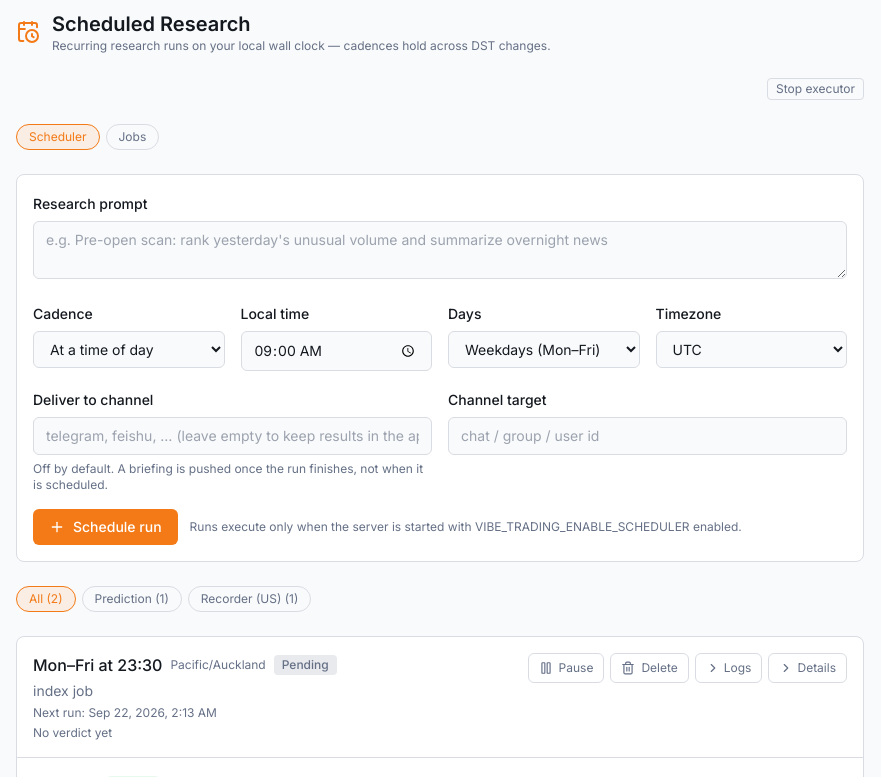
Test: cross-service registry entries (Mechanism B) › filtering to a recorder section hides scheduled-run rows and vice versa
Expected: the tab "All (2)" is shown, left=16, top=586, right=76, bottom=612
Click the tab "Recorder (US) (1)" at (250, 599), box left=188, top=586, right=311, bottom=612
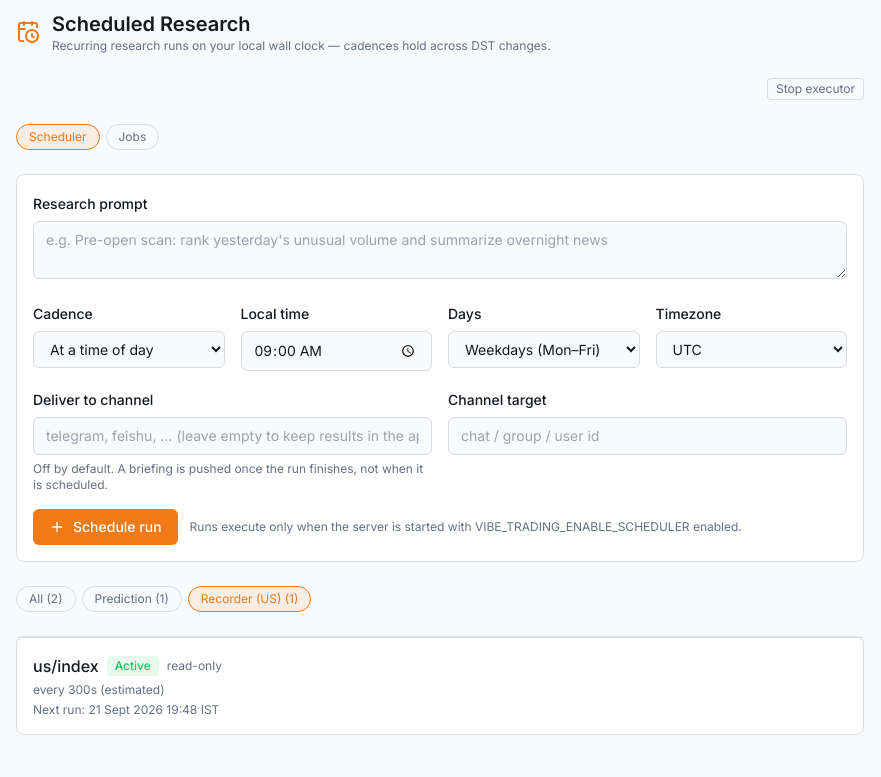
Expected: the text "us/index" is shown, left=33, top=654, right=99, bottom=678
Expected: the text "index job" is gone
